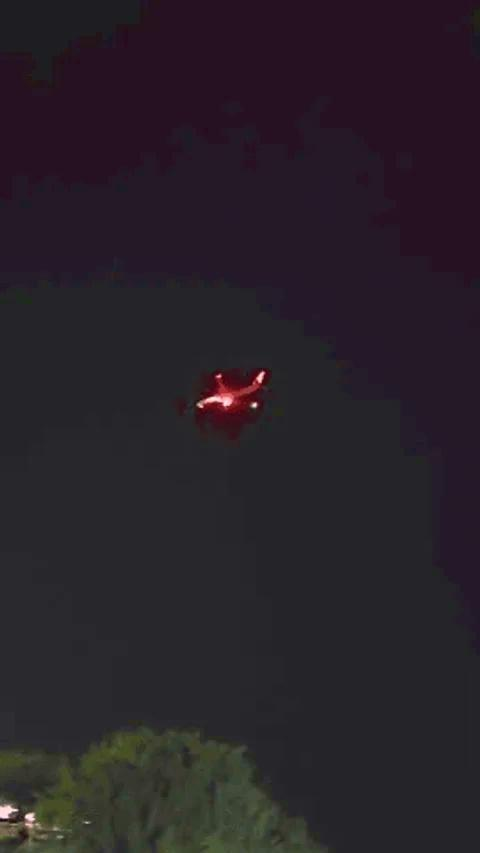Plane: (169, 331, 292, 469)
